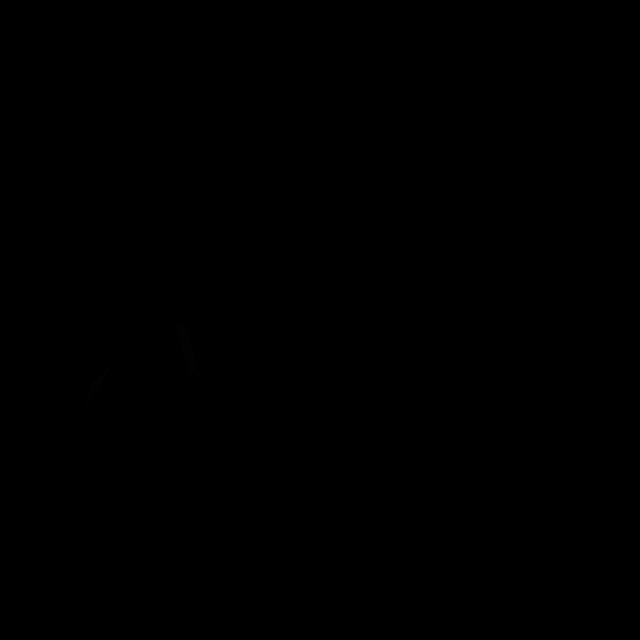cardboard: (84, 362, 114, 411), (175, 324, 201, 377)
